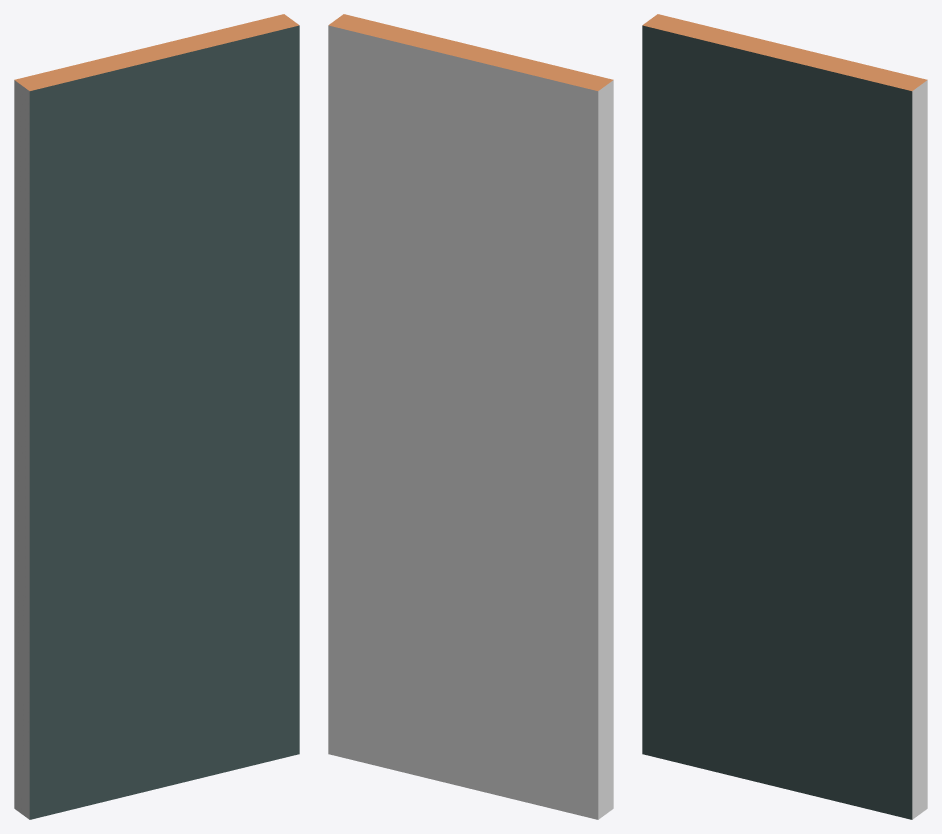
File: wallHalf.obj
3 renders of one model, left to right at view 1: azimuth 30°, elevation 25°; view 2: azimuth 150°, elevation 25°; view 3: azimuth 330°, elevation 25°, orthographic.
Visible parts, largest first — view 1: wallHalf; view 2: wallHalf; view 3: wallHalf.
Part boxes in pixels (box(x1,y1,x2,y2)): wallHalf: box(14, 14, 299, 819); wallHalf: box(328, 14, 613, 819); wallHalf: box(642, 14, 927, 819).
Size of the model in its own units: 0.5 by 1.29 by 0.05.
